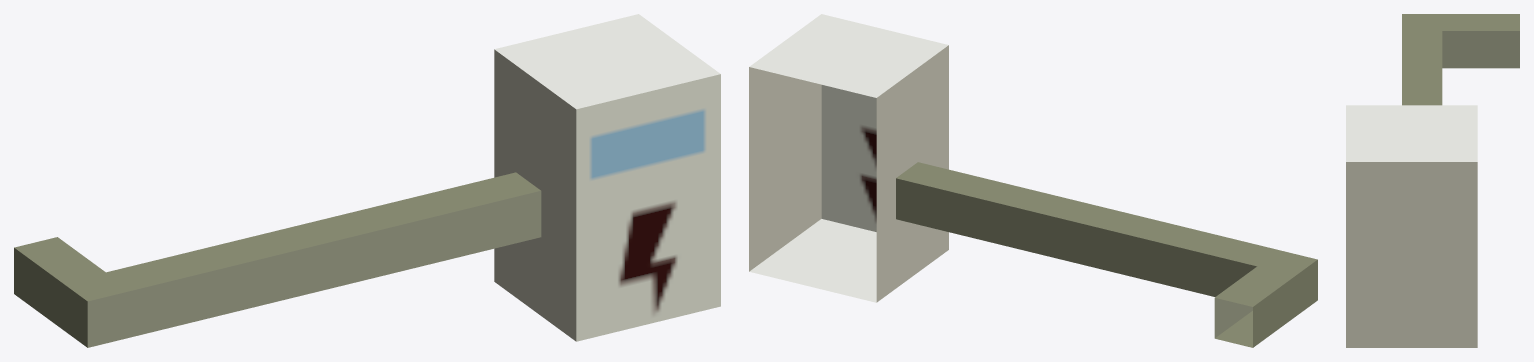
File: SM_PowerBox_03.fbx
3 renders of one model, left to right at view 1: azimuth 30°, elevation 25°; view 2: azimuth 150°, elevation 25°; view 3: azimuth 270°, elevation 25°, orthographic. The views are drawn at different scales.
Parts seen in each view (by area): view 1: SM_PowerBox_03; view 2: SM_PowerBox_03; view 3: SM_PowerBox_03.
Part boxes in pixels (bbox=[...]): SM_PowerBox_03: bbox=[14, 14, 720, 347]; SM_PowerBox_03: bbox=[749, 14, 1317, 347]; SM_PowerBox_03: bbox=[1346, 14, 1519, 347].
Bounding box in the file's own units: 1.48 × 0.5487 × 0.465.
